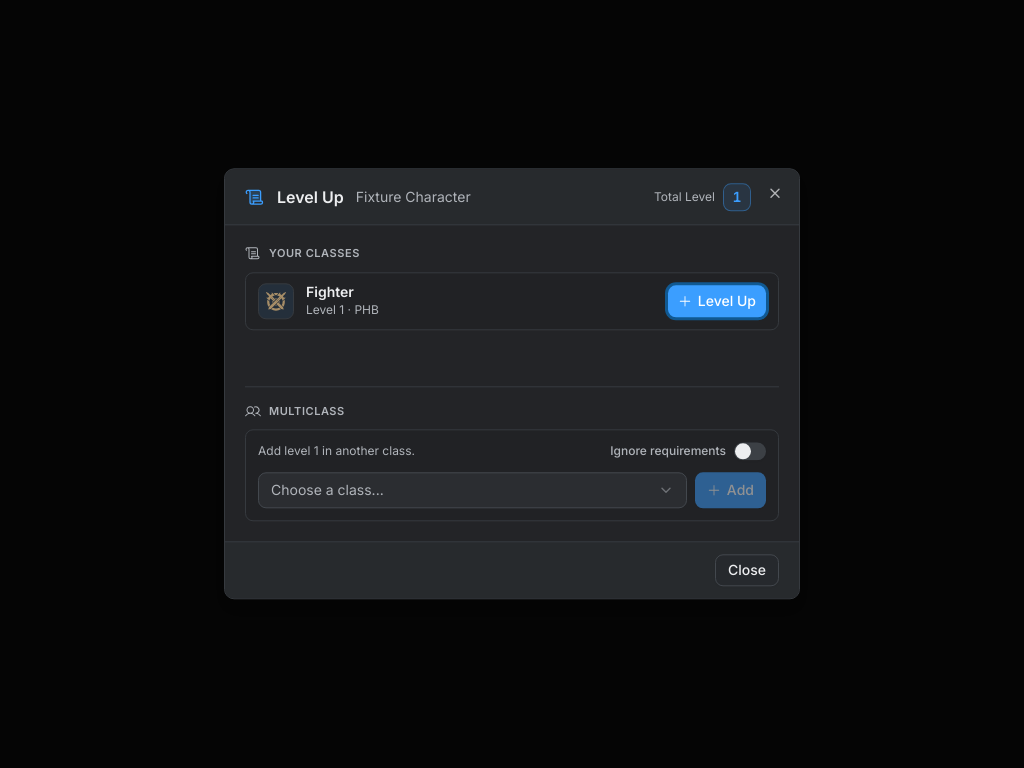
Test: level up hit-point choices › uses the exact raw hit die after filtering and catalog refresh Fighter
Click the button "Level Up": (717, 301) [668, 285, 766, 317]
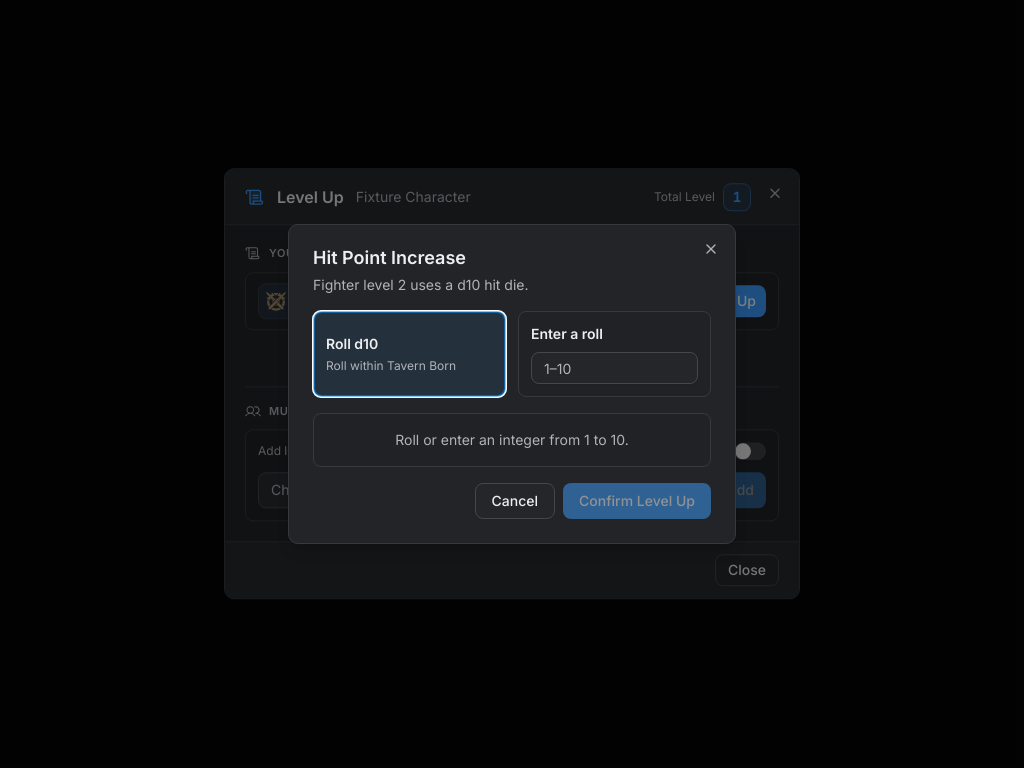
Check: the button "Roll d10 Roll within Tavern Born" is shown, box [313, 311, 506, 397]
